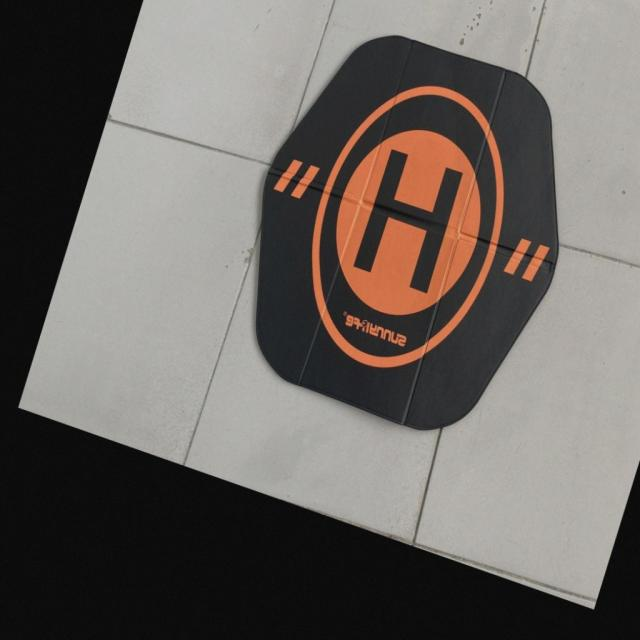helipad: (307, 79, 508, 373)
